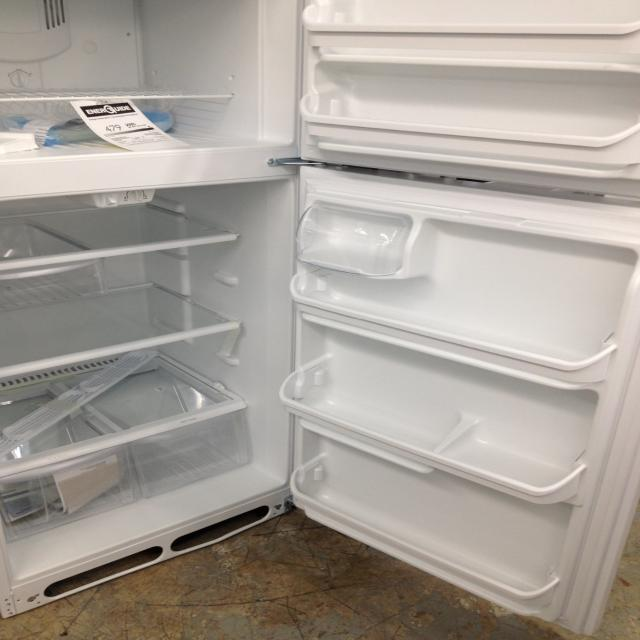fridge-space: (0, 296, 224, 347), (432, 289, 593, 352), (305, 368, 448, 438), (1, 208, 222, 251), (4, 384, 113, 454), (110, 364, 226, 421), (462, 420, 569, 480), (304, 277, 432, 323), (447, 102, 614, 137), (316, 464, 399, 519), (472, 543, 557, 588), (403, 502, 472, 553), (326, 96, 416, 124)
